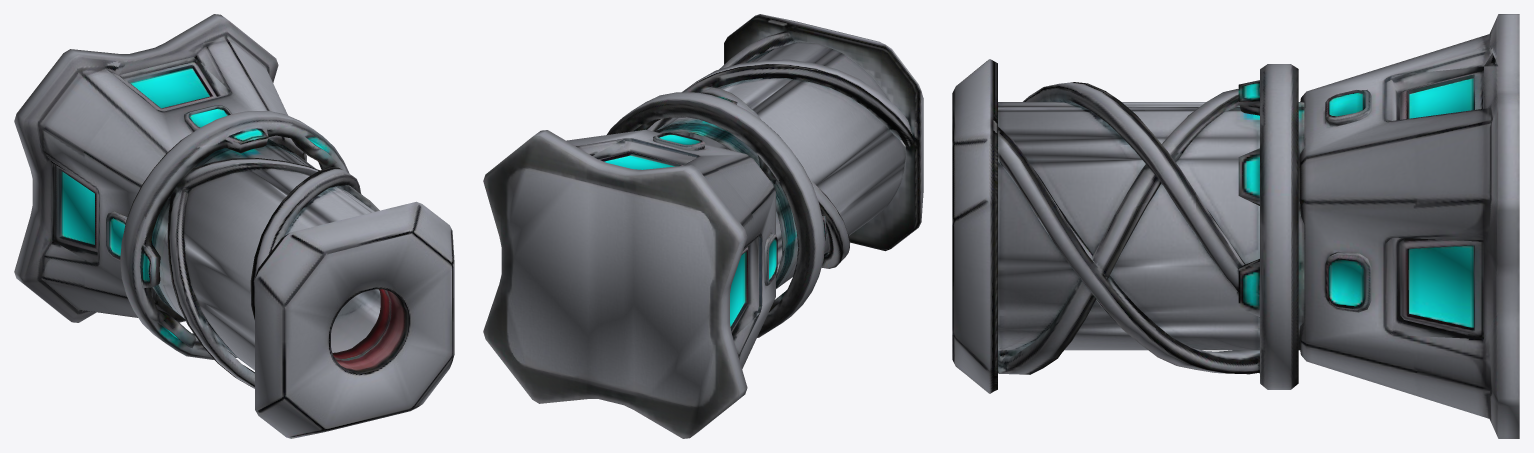
The model's file is tip_10.glb.
3 renders of one model, left to right at view 1: azimuth 30°, elevation 25°; view 2: azimuth 150°, elevation 25°; view 3: azimuth 270°, elevation 25°, orthographic. The views are drawn at different scales.
Parts seen in each view (by area): view 1: tripo_node_b7f089de-ed8b-47c9-8471-37cf48afa62b; view 2: tripo_node_b7f089de-ed8b-47c9-8471-37cf48afa62b; view 3: tripo_node_b7f089de-ed8b-47c9-8471-37cf48afa62b.
Boxes of the visible parts, x1,y1,x2,y2 form: tripo_node_b7f089de-ed8b-47c9-8471-37cf48afa62b: (14, 14, 454, 438); tripo_node_b7f089de-ed8b-47c9-8471-37cf48afa62b: (483, 14, 923, 438); tripo_node_b7f089de-ed8b-47c9-8471-37cf48afa62b: (952, 14, 1519, 438).
Size of the model in its own units: 0.1236 by 0.1236 by 0.1896.
1 material, 1 textured.
